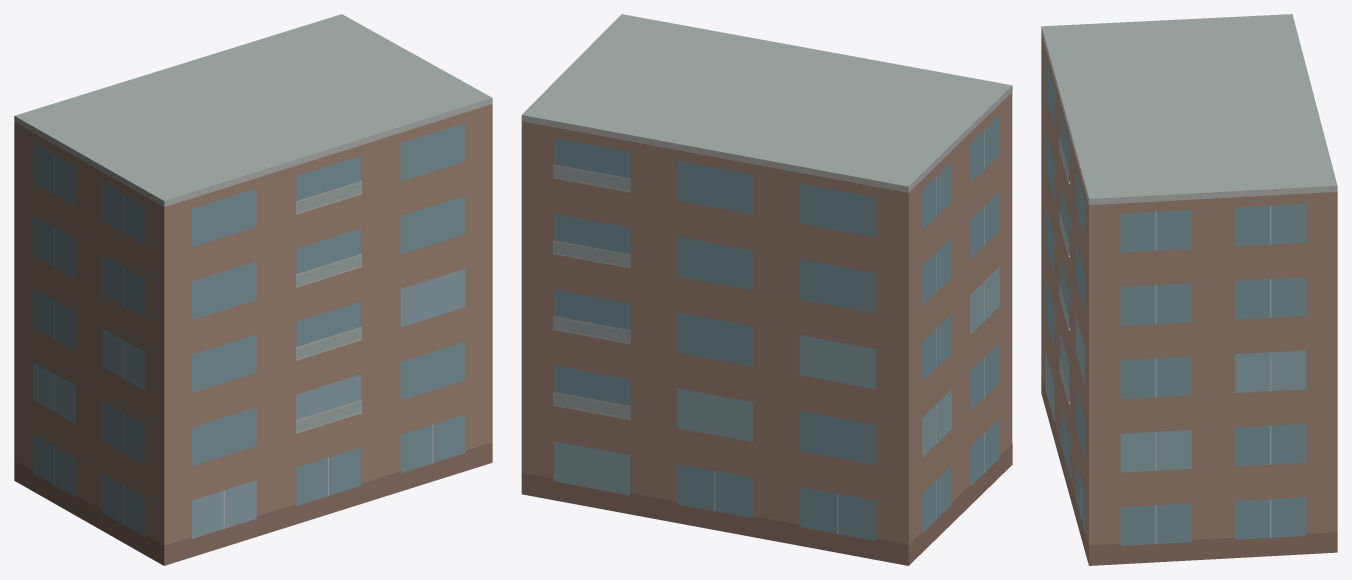
The model's file is survey-upis-32911854.glb.
3 renders of one model, left to right at view 1: azimuth 30°, elevation 25°; view 2: azimuth 150°, elevation 25°; view 3: azimuth 270°, elevation 25°, orthographic. The views are drawn at different scales.
Parts seen in each view (by area): view 1: survey-upis-32911854.tmp; view 2: survey-upis-32911854.tmp; view 3: survey-upis-32911854.tmp.
Part boxes in pixels (left/top/right/bottom): survey-upis-32911854.tmp: left=14, top=14, right=492, bottom=565; survey-upis-32911854.tmp: left=521, top=14, right=1012, bottom=565; survey-upis-32911854.tmp: left=1041, top=14, right=1337, bottom=565.
Bounding box in the file's own units: 15.75 × 14.55 × 10.66.
